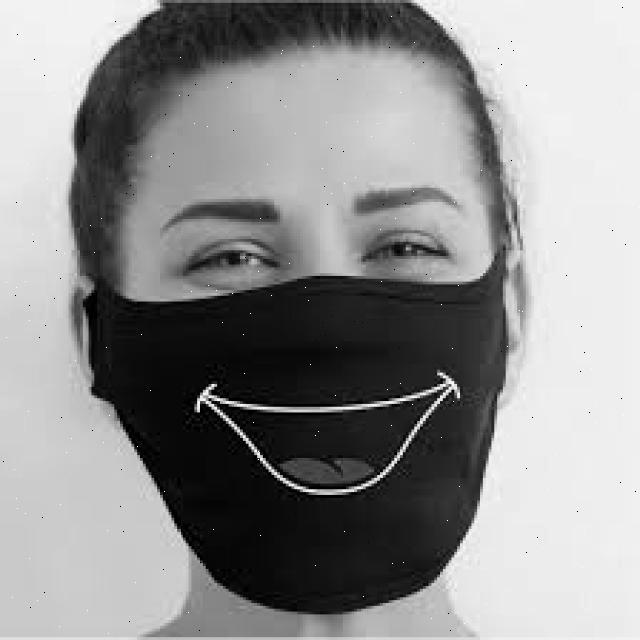fake: (82, 269, 519, 618)
real: (124, 42, 490, 618)
